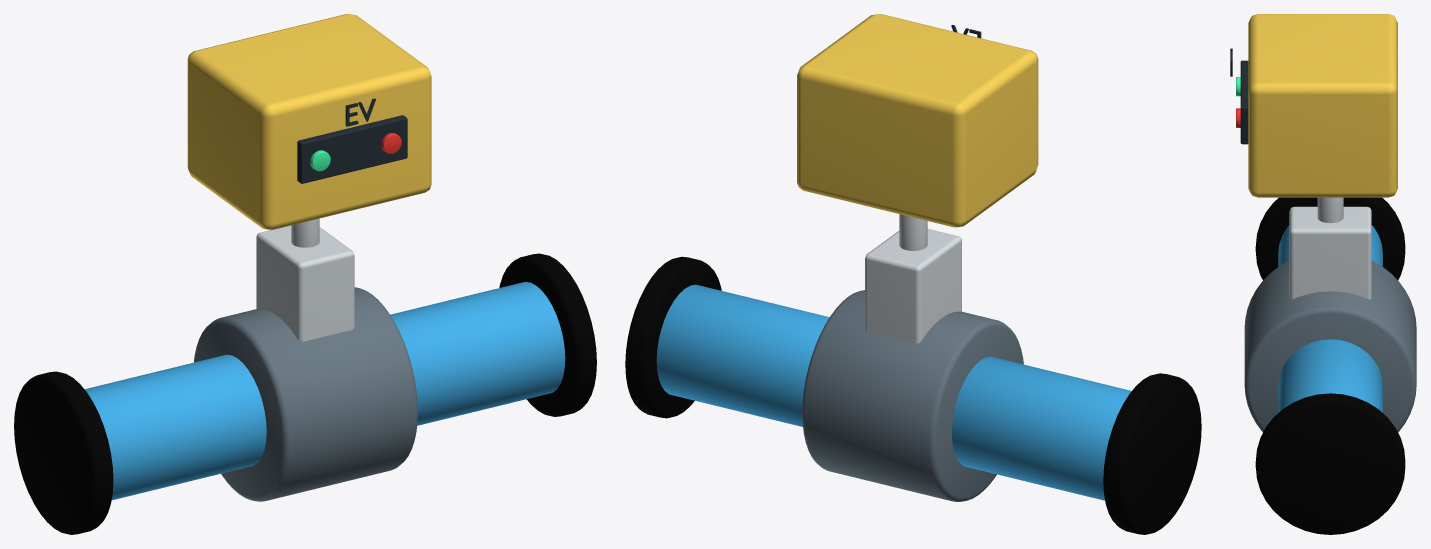
The model's file is motorized-valve.glb.
3 renders of one model, left to right at view 1: azimuth 30°, elevation 25°; view 2: azimuth 150°, elevation 25°; view 3: azimuth 270°, elevation 25°, orthographic. The views are drawn at different scales.
Parts seen in each view (by area): view 1: motorized valve actuator box, motorized valve round body, motorized valve left short interface sleeve, motorized valve right short interface sleeve, motorized valve left dark flange gasket, motorized valve stem yoke, motorized valve right dark flange gasket, motorized valve black status window, motorized valve vertical shaft; view 2: motorized valve actuator box, motorized valve round body, motorized valve left short interface sleeve, motorized valve right short interface sleeve, motorized valve left dark flange gasket, motorized valve stem yoke, motorized valve right dark flange gasket, motorized valve vertical shaft; view 3: motorized valve actuator box, motorized valve right dark flange gasket, motorized valve round body, motorized valve stem yoke, motorized valve right short interface sleeve, motorized valve left dark flange gasket, motorized valve black status window, motorized valve left short interface sleeve, motorized valve vertical shaft.
Part boxes in pixels (x1,y1,x2,y2): motorized valve actuator box: (187, 14, 431, 229); motorized valve round body: (194, 287, 417, 501); motorized valve left short interface sleeve: (85, 354, 266, 500); motorized valve right short interface sleeve: (390, 281, 565, 425); motorized valve left dark flange gasket: (14, 371, 113, 534); motorized valve stem yoke: (256, 225, 354, 341); motorized valve right dark flange gasket: (499, 253, 596, 416); motorized valve black status window: (297, 115, 407, 183); motorized valve vertical shaft: (291, 218, 319, 247); motorized valve actuator box: (797, 14, 1038, 227); motorized valve round body: (802, 290, 1023, 501); motorized valve left short interface sleeve: (952, 356, 1131, 500); motorized valve right short interface sleeve: (656, 284, 829, 426); motorized valve left dark flange gasket: (1103, 373, 1201, 534); motorized valve stem yoke: (865, 229, 961, 343); motorized valve right dark flange gasket: (625, 256, 721, 418); motorized valve vertical shaft: (899, 214, 927, 250); motorized valve actuator box: (1248, 14, 1397, 197); motorized valve right dark flange gasket: (1255, 393, 1405, 534); motorized valve round body: (1244, 260, 1416, 432); motorized valve stem yoke: (1289, 206, 1371, 299); motorized valve right short interface sleeve: (1278, 339, 1382, 412); motorized valve left dark flange gasket: (1255, 197, 1405, 280); motorized valve black status window: (1240, 60, 1248, 144); motorized valve left short interface sleeve: (1278, 225, 1382, 266); motorized valve vertical shaft: (1317, 197, 1343, 223).
Bounding box in the file's own units: 1.42 × 1.14 × 0.498.
